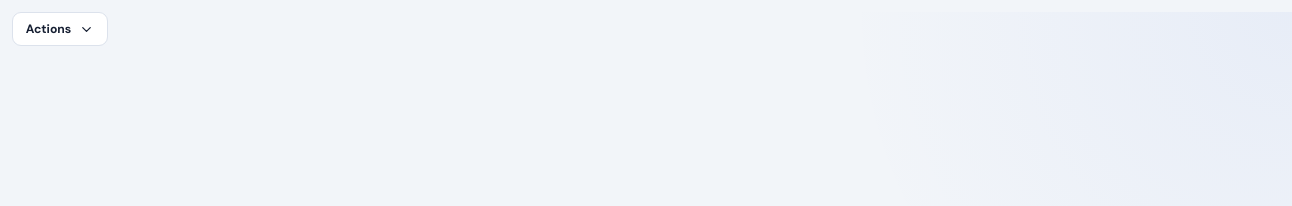
Test: row action menu › keeps all actions in one menu and closes after the selected action
Expected: the button "Edit" is not shown
Click the button "Actions". click: (60, 29)
box: [12, 12, 108, 46]
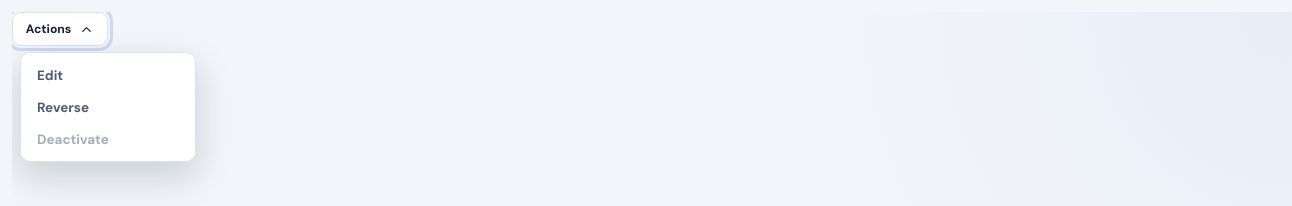
Expected: the button "Edit" is shown
Expected: the button "Reverse" is shown, [27, 91, 189, 123]
Expected: the button "Deactivate" is disabled, [27, 123, 189, 155]
Click the button "Edit". click: (108, 75)
box: [27, 59, 189, 91]
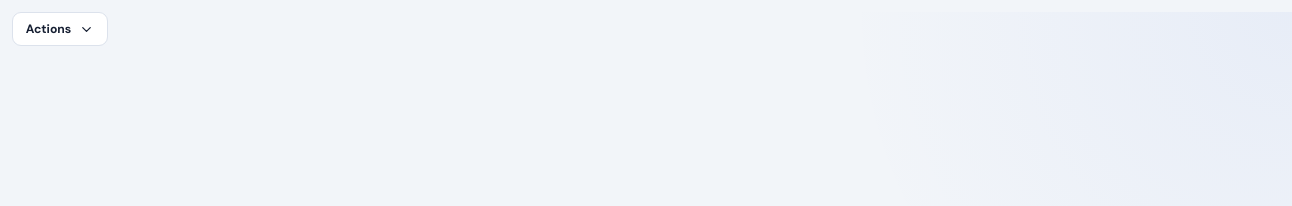
Expected: the button "Reverse" is gone
